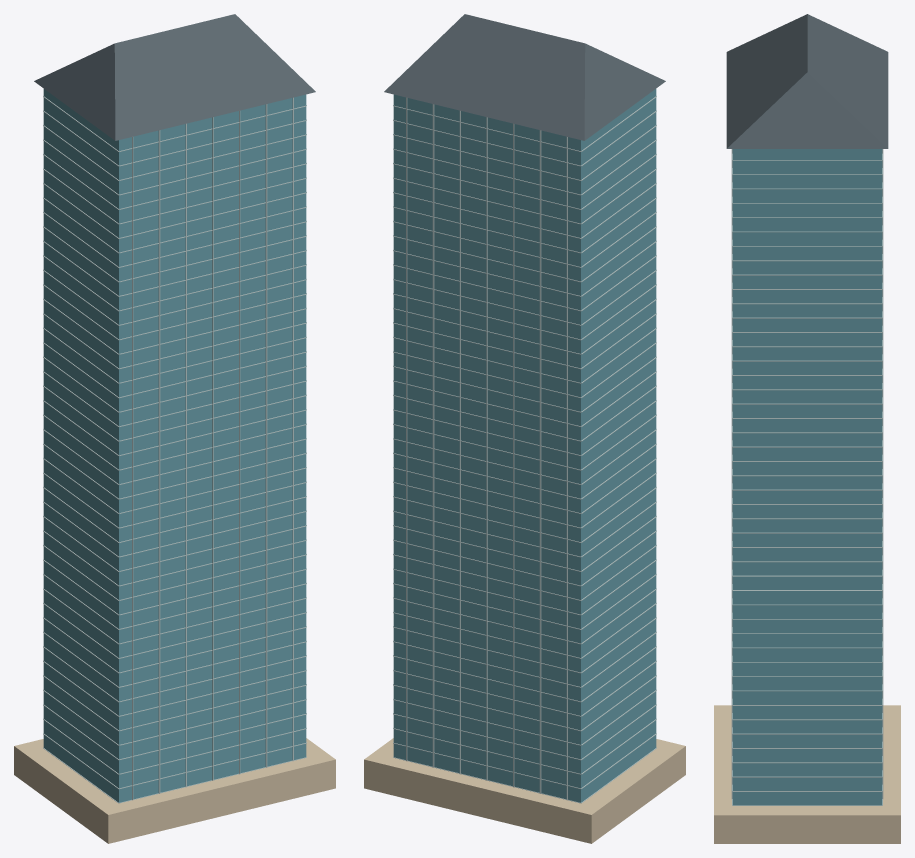
File: shangri-la-river.glb
The picture shows the model from 3 angles, left to right: view 1: azimuth 30°, elevation 25°; view 2: azimuth 150°, elevation 25°; view 3: azimuth 270°, elevation 25°; orthographic projection.
Parts seen in each view (by area): view 1: shangri-la-river; view 2: shangri-la-river; view 3: shangri-la-river.
Boxes of the visible parts, box(x1,y1,x2,y2) form: shangri-la-river: box(14, 14, 335, 843); shangri-la-river: box(364, 14, 685, 843); shangri-la-river: box(714, 14, 900, 843).
Bounding box in the file's own units: 48.38 × 153 × 34.72.
